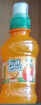orange: (1, 2, 37, 104)
